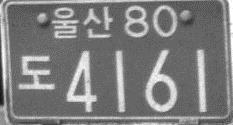0: (152, 3, 177, 38)
1: (194, 47, 211, 114), (112, 47, 128, 114)
4: (64, 49, 98, 113)
6: (142, 48, 178, 113)
8: (124, 4, 149, 38)
도: (16, 53, 55, 92)
울산_O: (50, 6, 114, 40)
